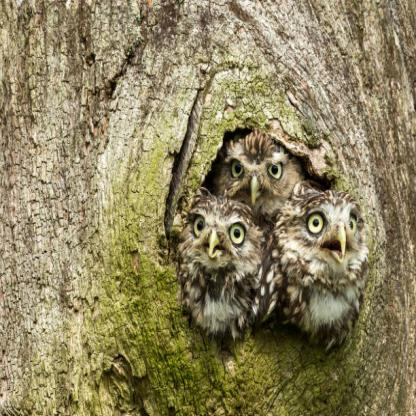owl: (146, 86, 395, 405), (276, 174, 398, 415), (177, 171, 282, 409)
